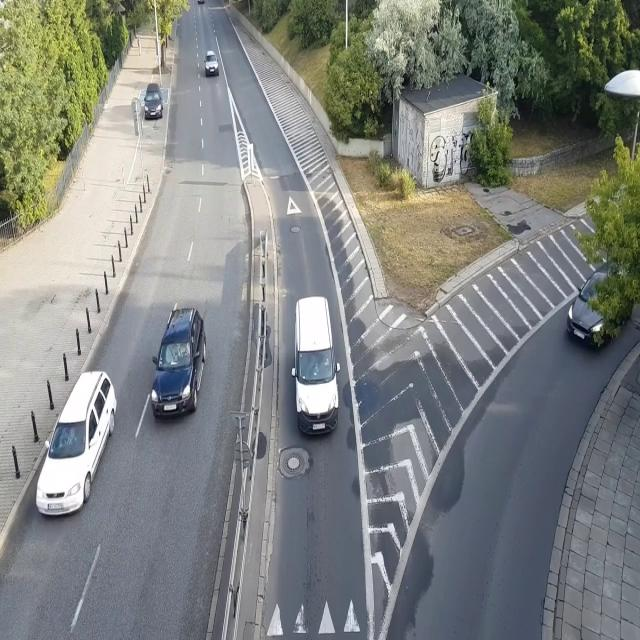car: (35, 368, 117, 516), (565, 252, 635, 351), (150, 306, 207, 420), (143, 82, 164, 118), (204, 50, 219, 76), (196, 0, 205, 5)
van: (291, 296, 342, 436)
